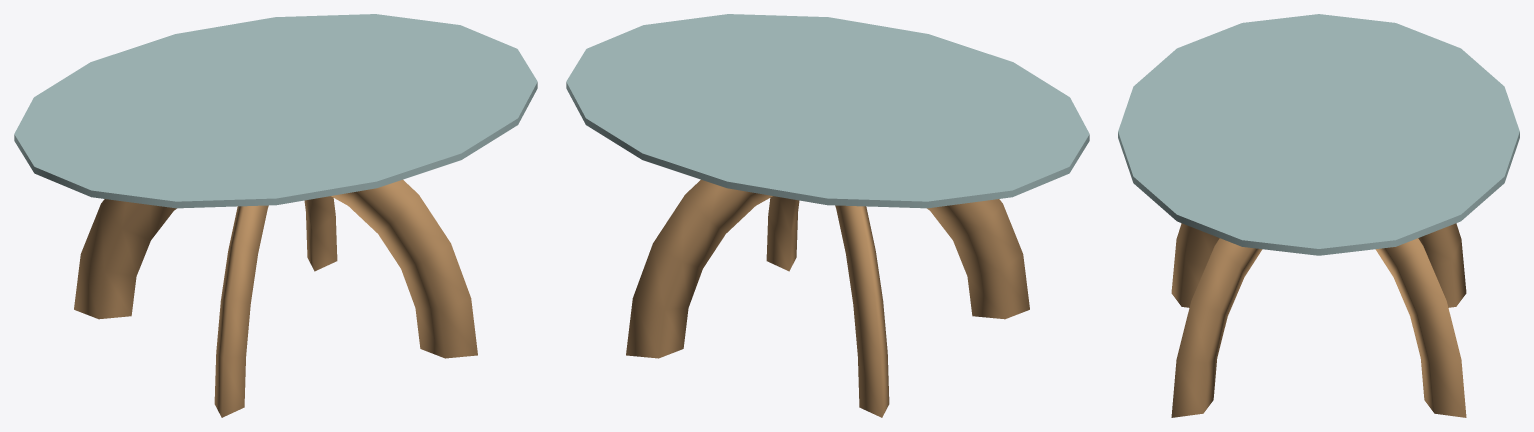
Rendered from coffeeTable-4.glb.
The picture shows the model from 3 angles, left to right: view 1: azimuth 30°, elevation 25°; view 2: azimuth 150°, elevation 25°; view 3: azimuth 270°, elevation 25°; orthographic projection.
Parts seen in each view (by area): view 1: coffeeTable:4:editor; view 2: coffeeTable:4:editor; view 3: coffeeTable:4:editor.
Part boxes in pixels (box(x1,y1,x2,y2)): coffeeTable:4:editor: box(14, 14, 537, 417); coffeeTable:4:editor: box(566, 14, 1089, 417); coffeeTable:4:editor: box(1118, 14, 1519, 417).
Bounding box in the file's own units: 0.9 × 0.4 × 0.65.
